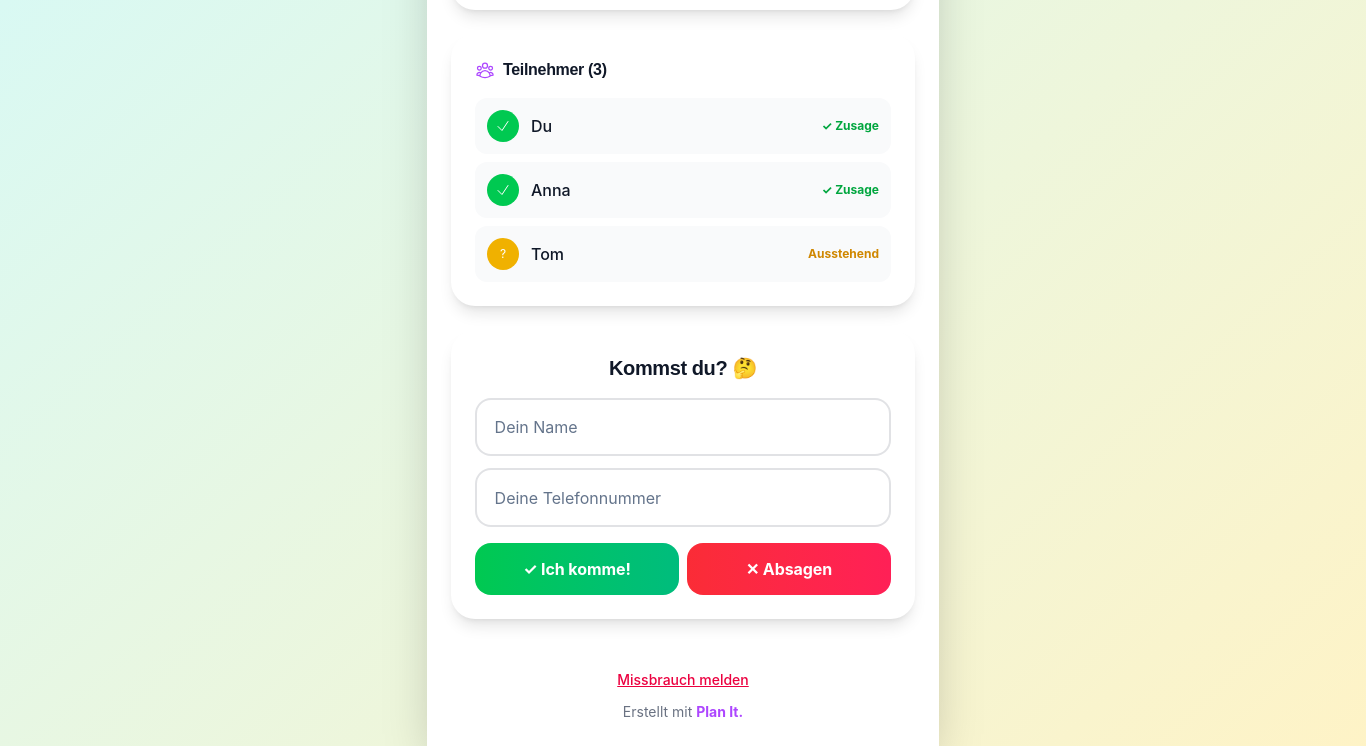
public invitation response › updates existing participants instead of duplicating RSVP entries
(page scrolled)
Expected: the heading "Teilnehmer (3)" is shown, top-left (475, 60), bottom-right (607, 80)
Type "Tom Updated" into the field with placeholder "Dein Name" at (683, 427), box top-left (475, 398), bottom-right (891, 456)
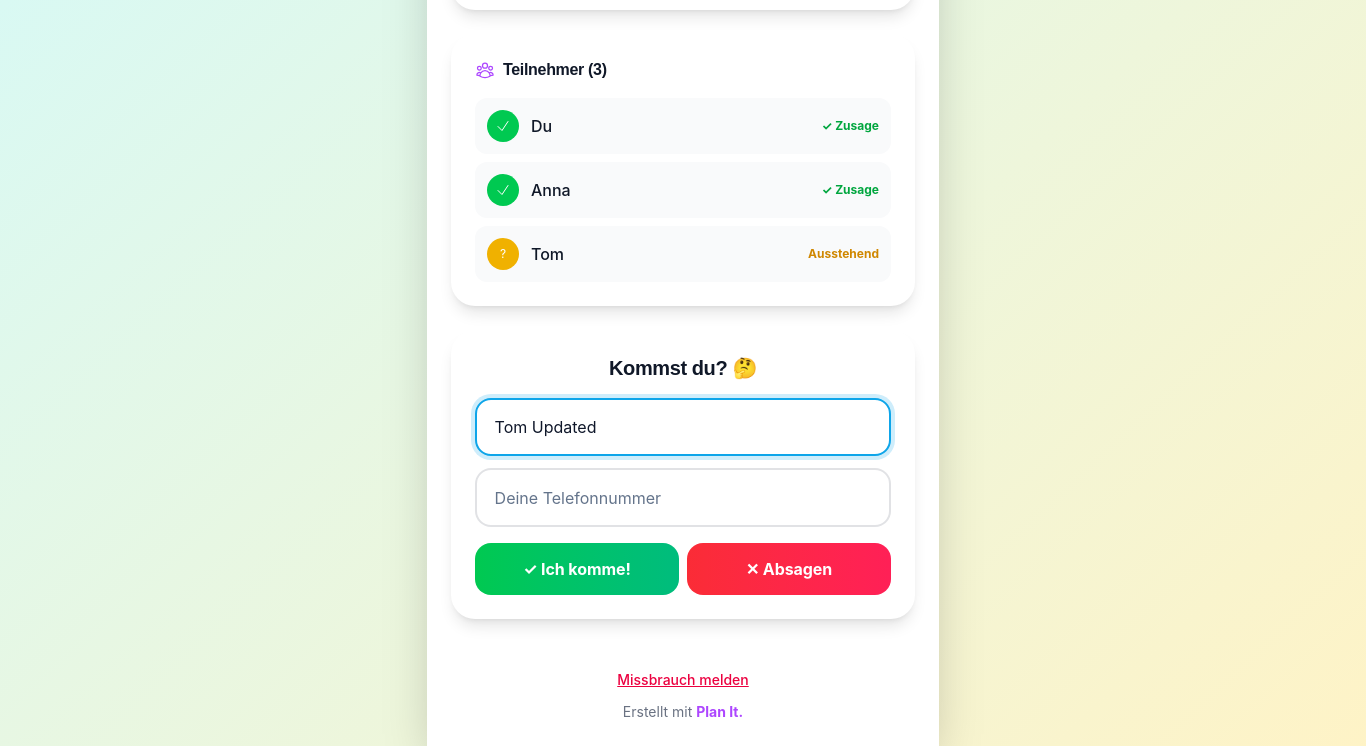
Type "+491522222222" into the field with placeholder "Deine Telefonnummer" at (683, 498), box top-left (475, 468), bottom-right (891, 527)
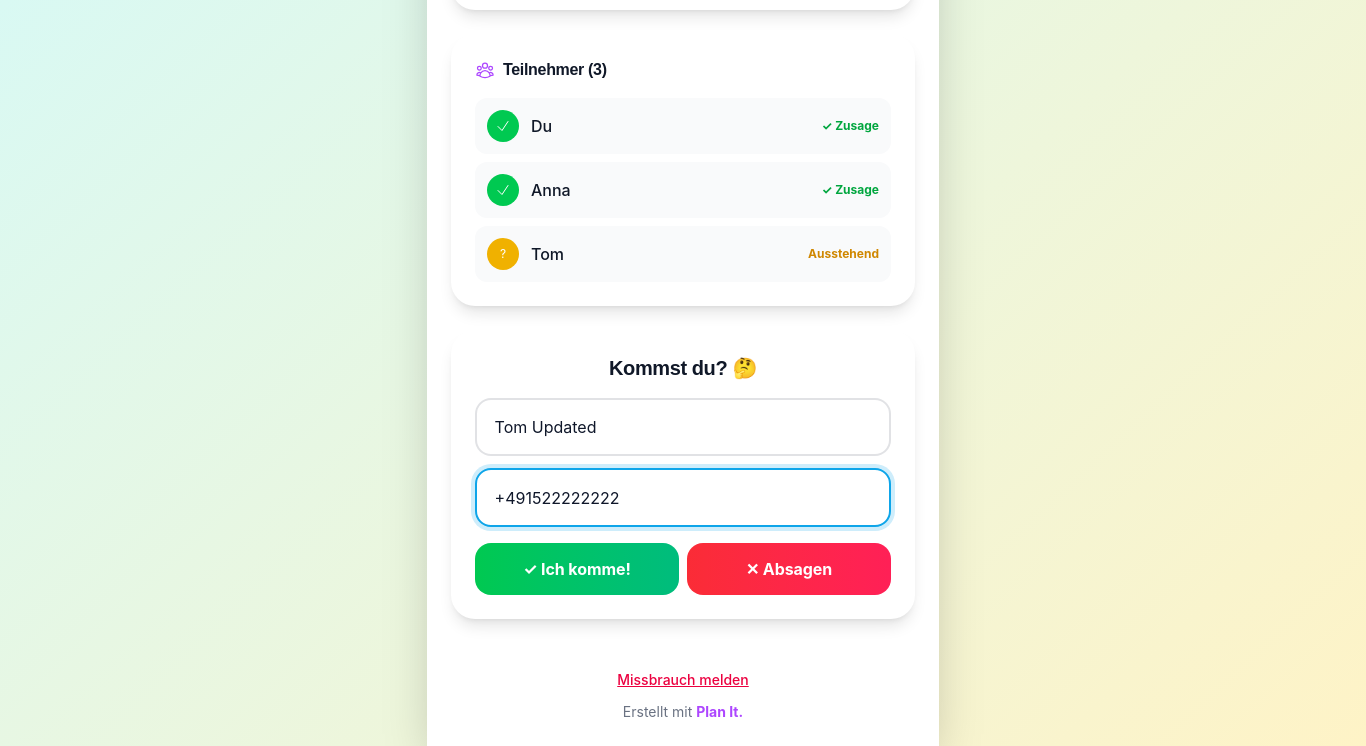
Click the button "✓ Ich komme!" at (577, 569), box top-left (475, 543), bottom-right (679, 595)
(page scrolled)
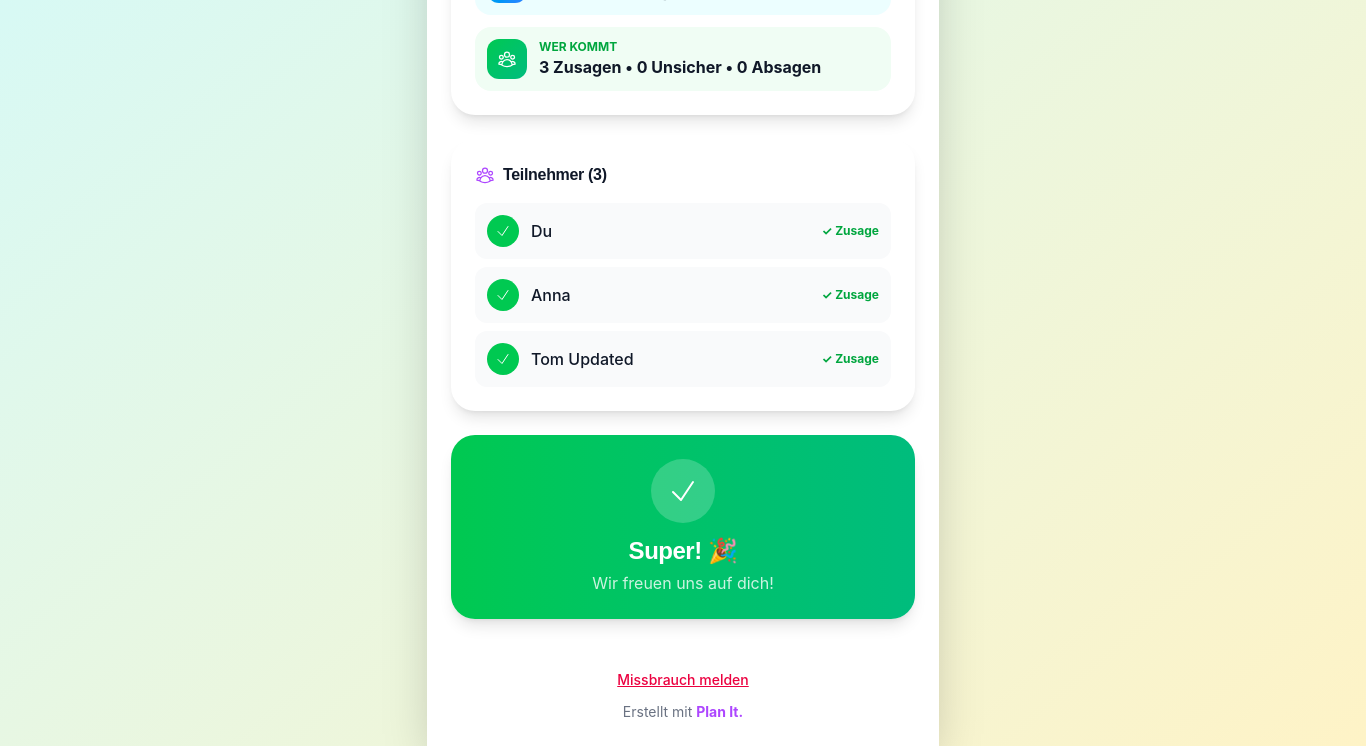
Expected: the text "Tom Updated" is shown once, top-left (531, 347), bottom-right (634, 371)
Expected: the heading "Super! 🎉" is shown, top-left (629, 537), bottom-right (737, 564)
